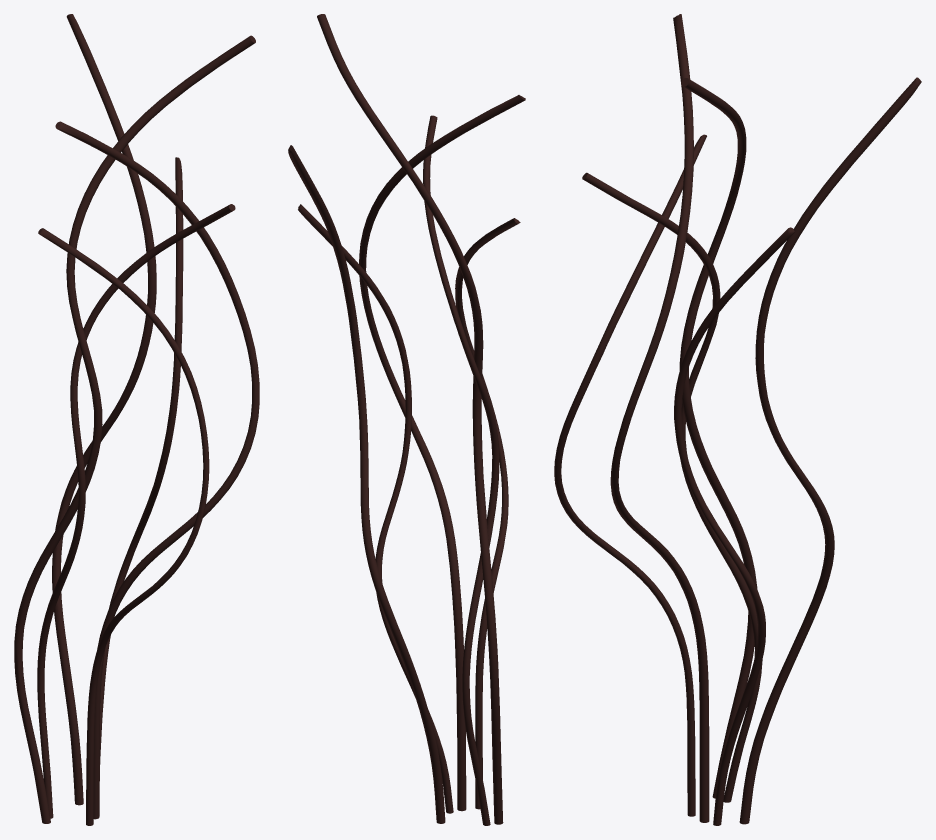
The model's file is plant_small.glb.
3 views of the same model, side by side, from view 1: azimuth 30°, elevation 25°; view 2: azimuth 150°, elevation 25°; view 3: azimuth 270°, elevation 25° (orthographic). The views are drawn at different scales.
Visible parts, largest first — view 1: DecoPlant; view 2: DecoPlant; view 3: DecoPlant.
Part boxes in pixels (x1,y1,x2,y2): DecoPlant: [14, 14, 259, 825]; DecoPlant: [288, 14, 525, 825]; DecoPlant: [554, 14, 921, 825].
Bounding box in the file's own units: 0.1566 × 0.5333 × 0.2163.
Materials: 1 (1 with a texture image).
